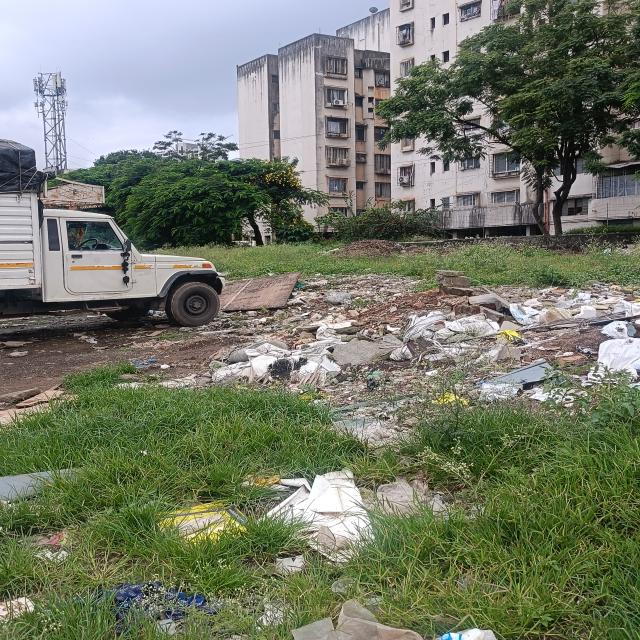garbage: (227, 298, 640, 387), (154, 473, 436, 561), (89, 577, 461, 640), (267, 273, 369, 298)
